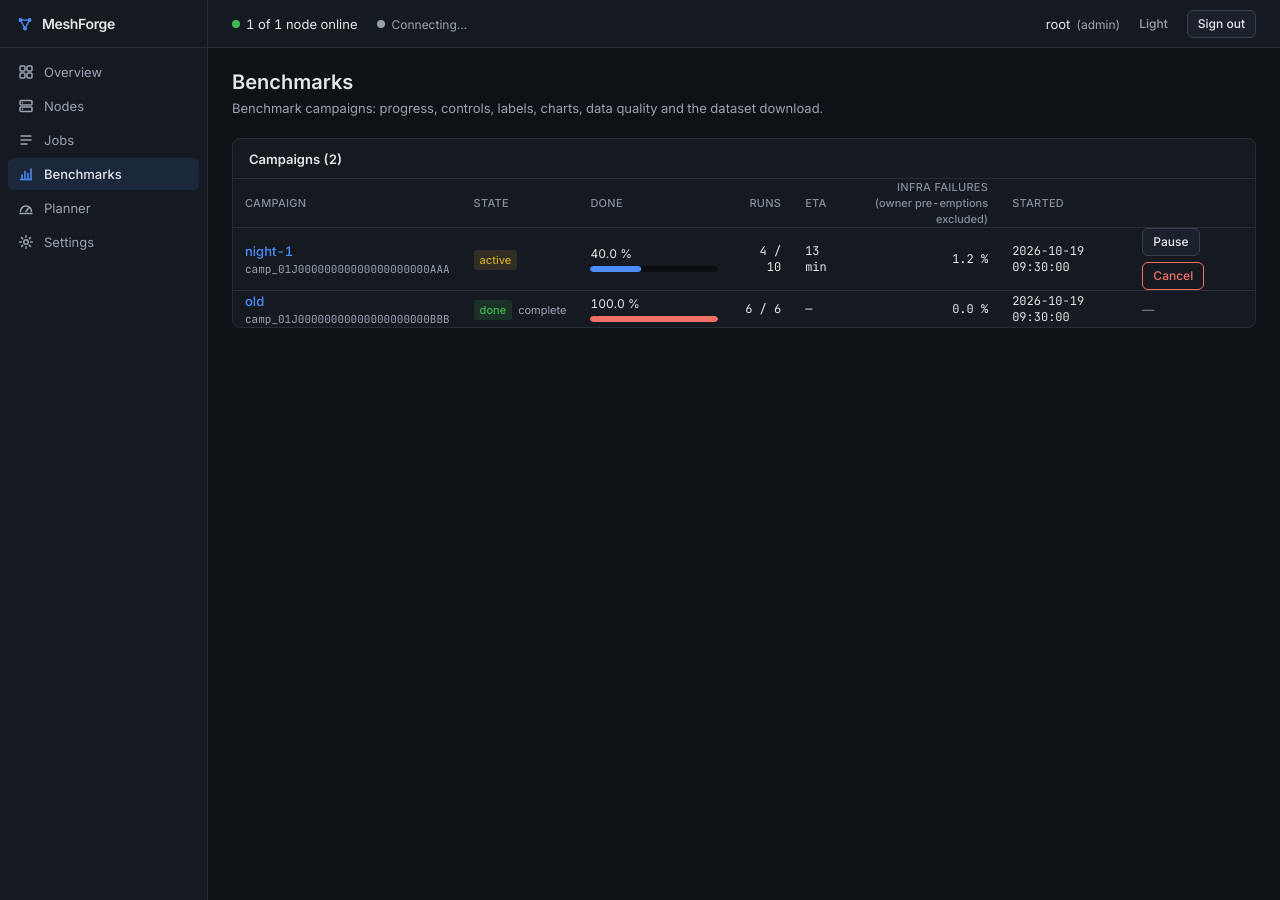
Test: campaign controls › cancel asks first; Keep running sends nothing; Cancel campaign sends the cancel
Click the button with aria-label "Cancel campaign night-1" at (1173, 276), box 1142,262 -> 1204,290
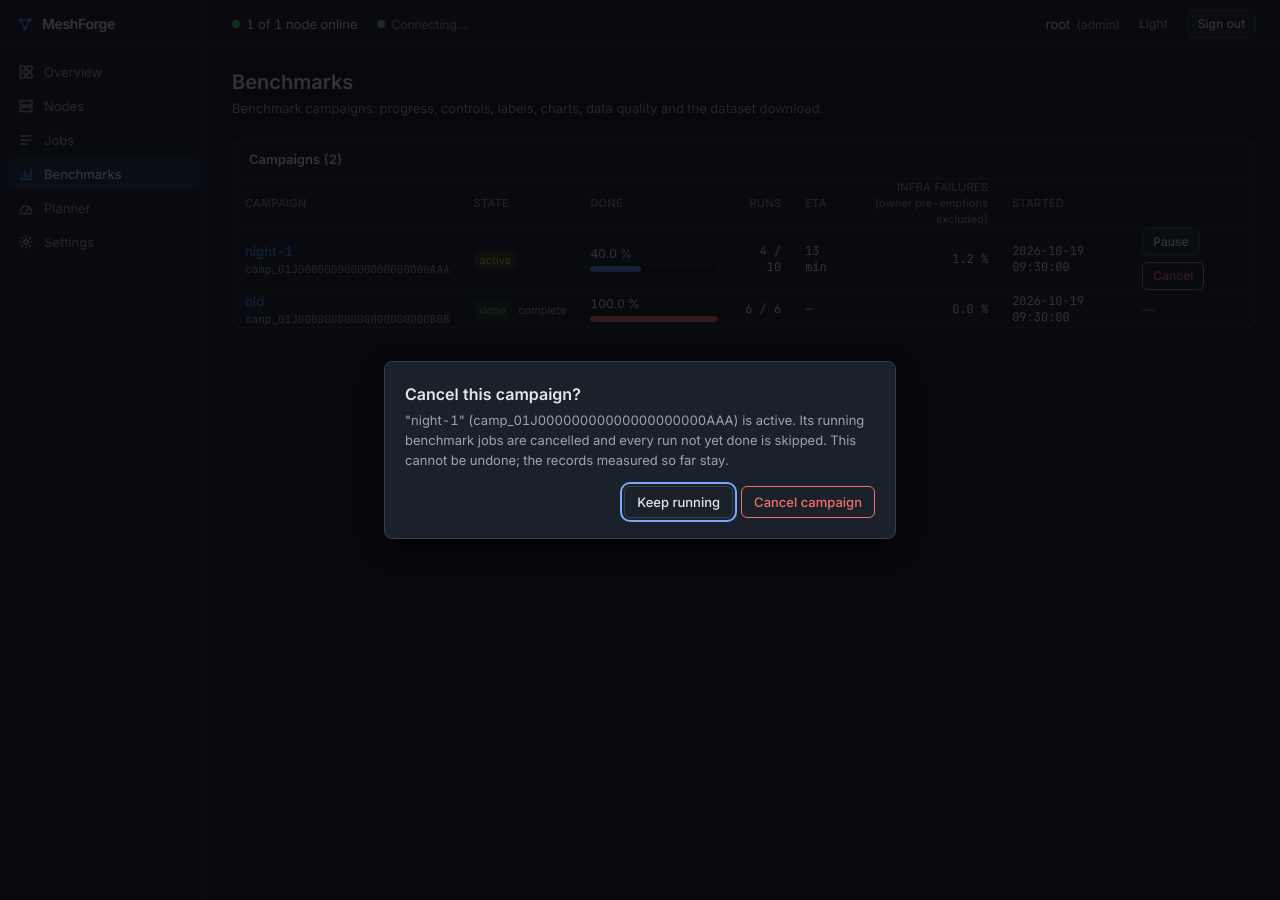
Expected: the heading "Cancel this campaign?" is shown, 405,384 -> 581,404
Click the button "Keep running" at (679, 502), box 624,486 -> 733,518
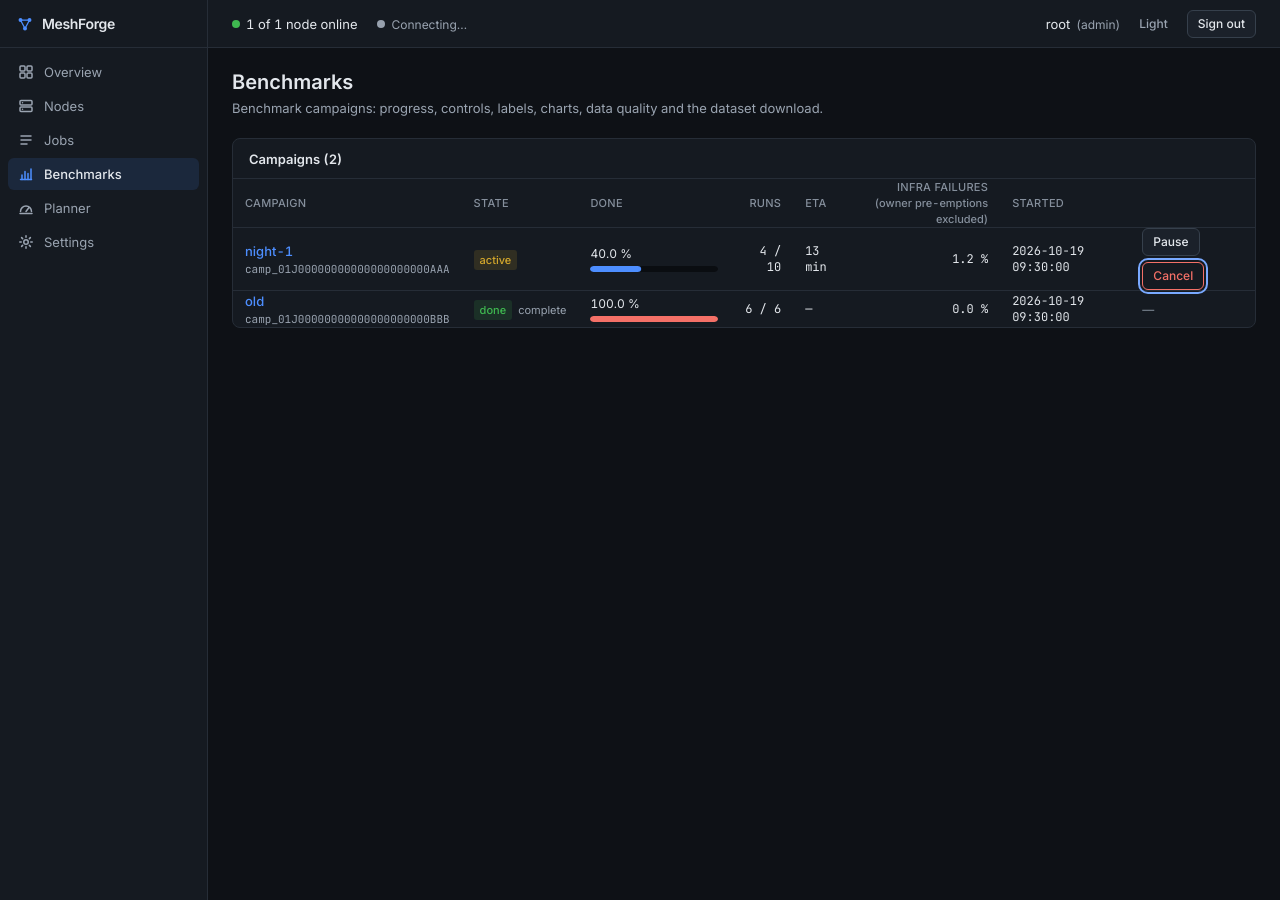
Click the button with aria-label "Cancel campaign night-1" at (1173, 276), box 1142,262 -> 1204,290
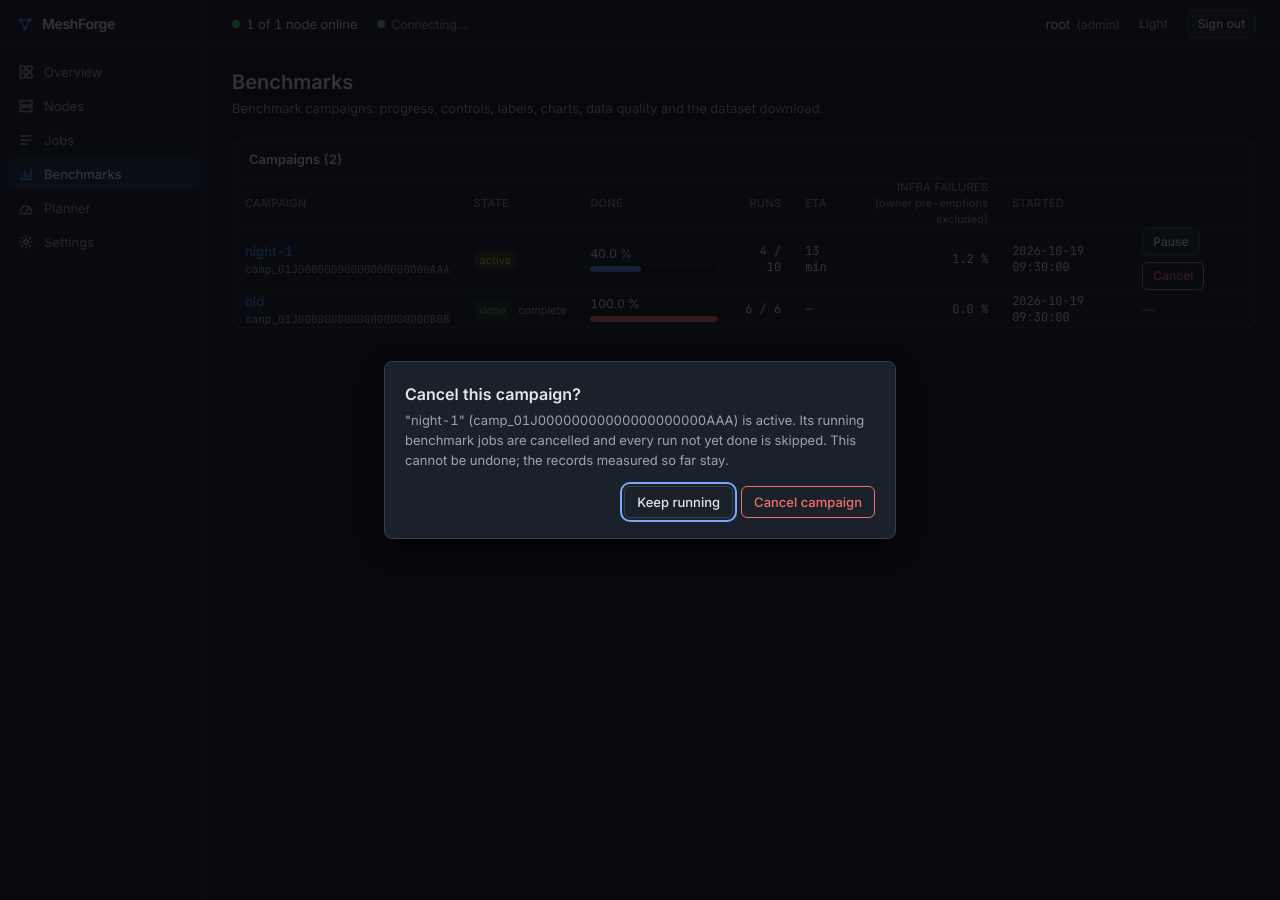
Click the button "Cancel campaign" at (808, 502), box 741,486 -> 875,518
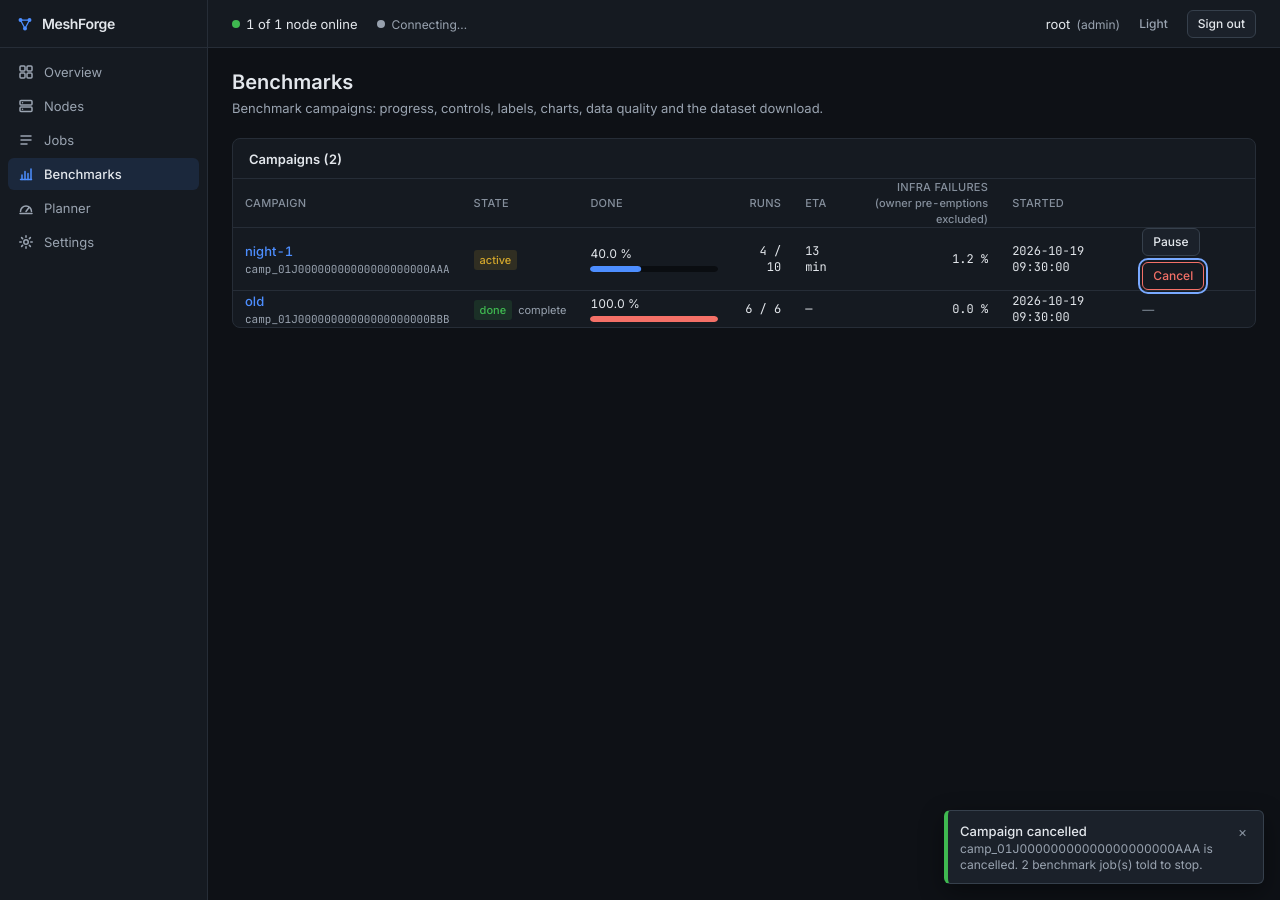
Expected: the text "Campaign cancelled" is shown, 960,823 -> 1087,839
